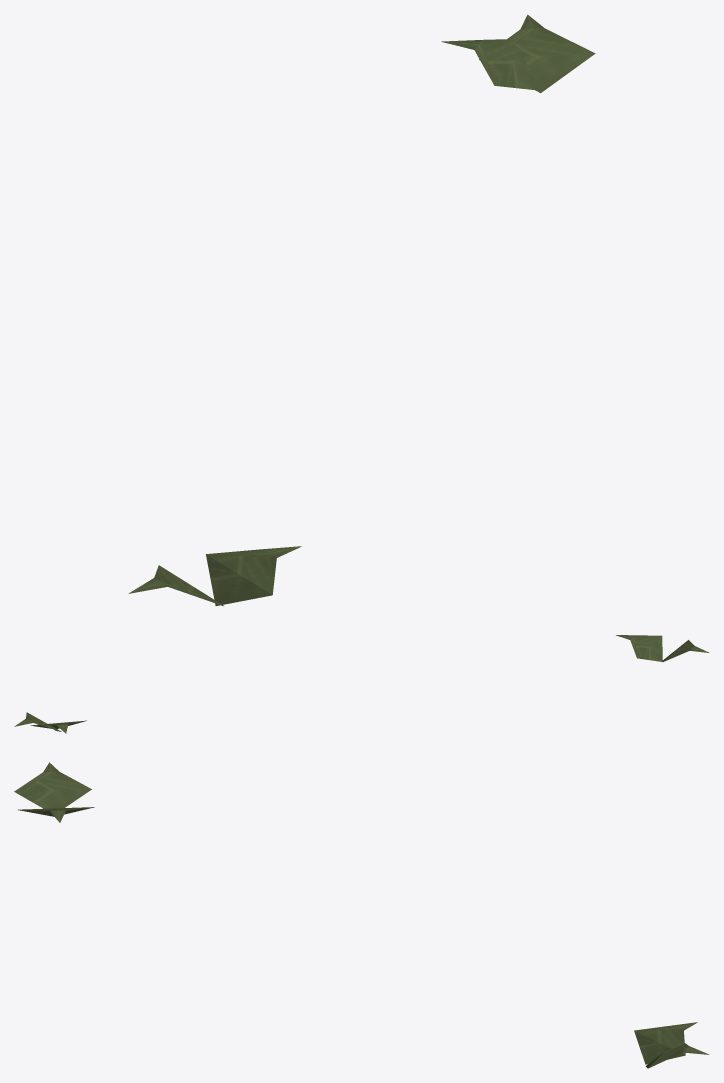
Rendered from crop_pumpkin_sprout.obj.
3 views of the same model, one above another, from view 1: azimuth 30°, elevation 25°; view 2: azimuth 150°, elevation 25°; view 3: azimuth 270°, elevation 25° (orthographic). The views are drawn at different scales.
Visible parts, largest first — view 1: crop_pumpkin_sprout; view 2: crop_pumpkin_sprout; view 3: crop_pumpkin_sprout.
Boxes of the visible parts, left/top/right/bottom form: crop_pumpkin_sprout: left=128, top=14, right=595, bottom=606; crop_pumpkin_sprout: left=14, top=635, right=709, bottom=733; crop_pumpkin_sprout: left=14, top=762, right=709, bottom=1068.
Bounding box in the file's own units: 1.07 × 0.0444 × 1.06.
Materials: 1 (1 with a texture image).
